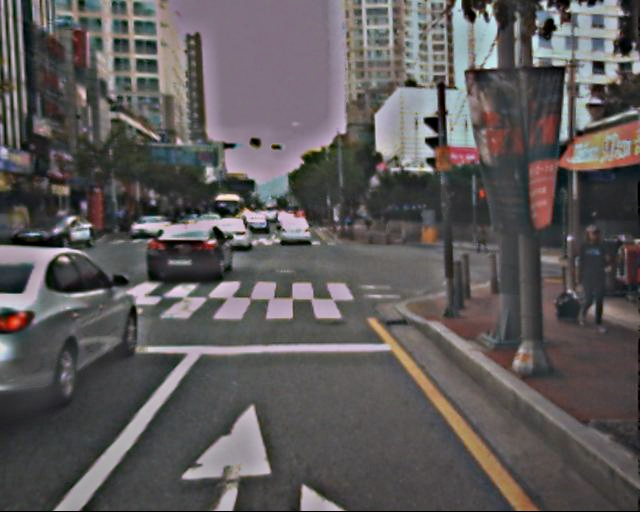person: (564, 222, 615, 333)
